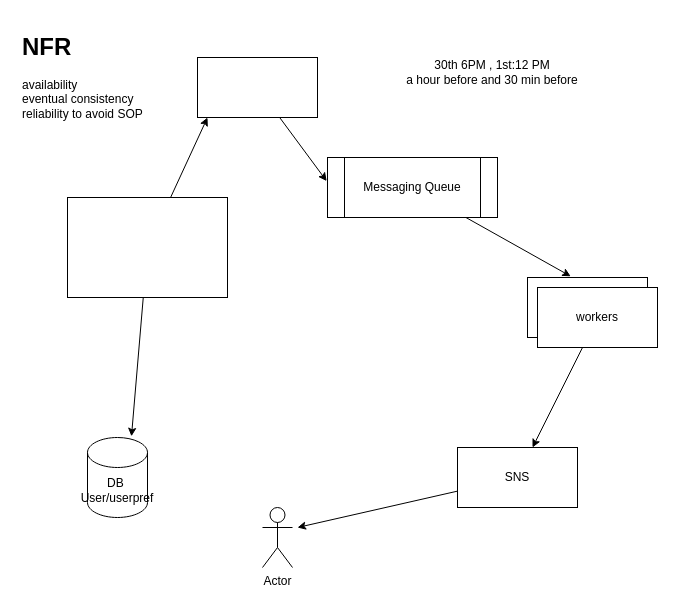
Some shapes in this 675 by 605 pixel diagram are drawn without their labels. Here are the shapes that lost their labels. From the top down, the box of each, then its label:
(196, 56, 318, 118): redis / time based callbacks
(66, 196, 228, 298): PORTEX
